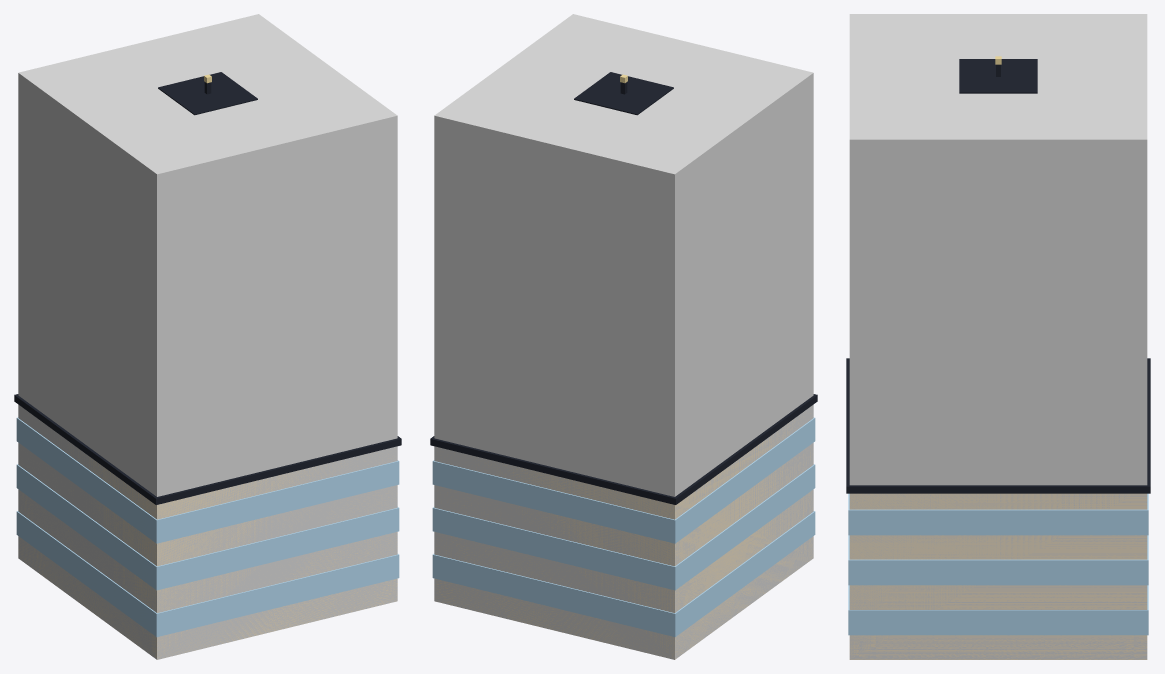
The model's file is skyline-stepped.glb.
3 views of the same model, side by side, from view 1: azimuth 30°, elevation 25°; view 2: azimuth 150°, elevation 25°; view 3: azimuth 270°, elevation 25° (orthographic). The views are drawn at different scales.
Parts seen in each view (by area): view 1: COL_body, skyline-stepped; view 2: COL_body, skyline-stepped; view 3: COL_body, skyline-stepped.
Boxes of the visible parts, x1,y1,x2,y2 form: COL_body: (18, 14, 397, 659); skyline-stepped: (14, 72, 401, 659); COL_body: (434, 14, 813, 659); skyline-stepped: (430, 72, 817, 659); COL_body: (849, 14, 1147, 659); skyline-stepped: (846, 56, 1150, 659).
Size of the model in its own units: 14.3 by 28 by 14.3.
